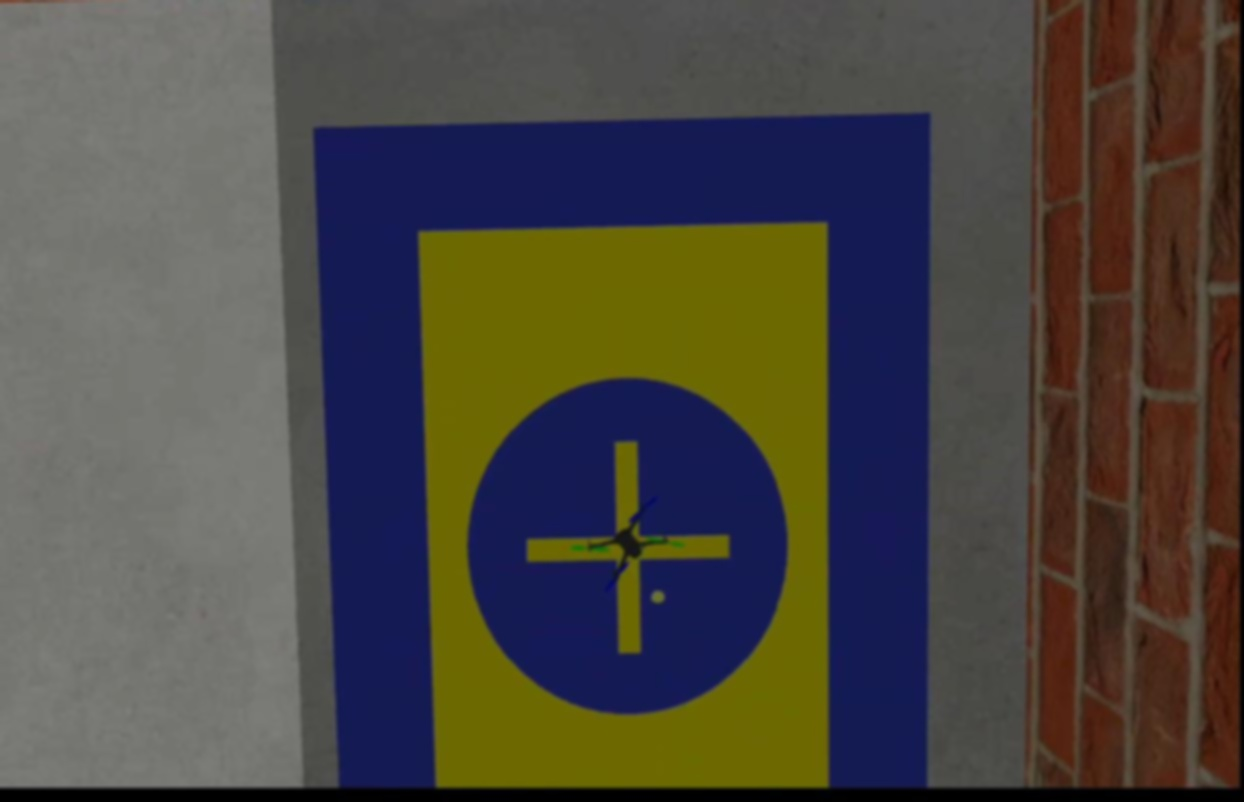large_base: (311, 108, 927, 793)
